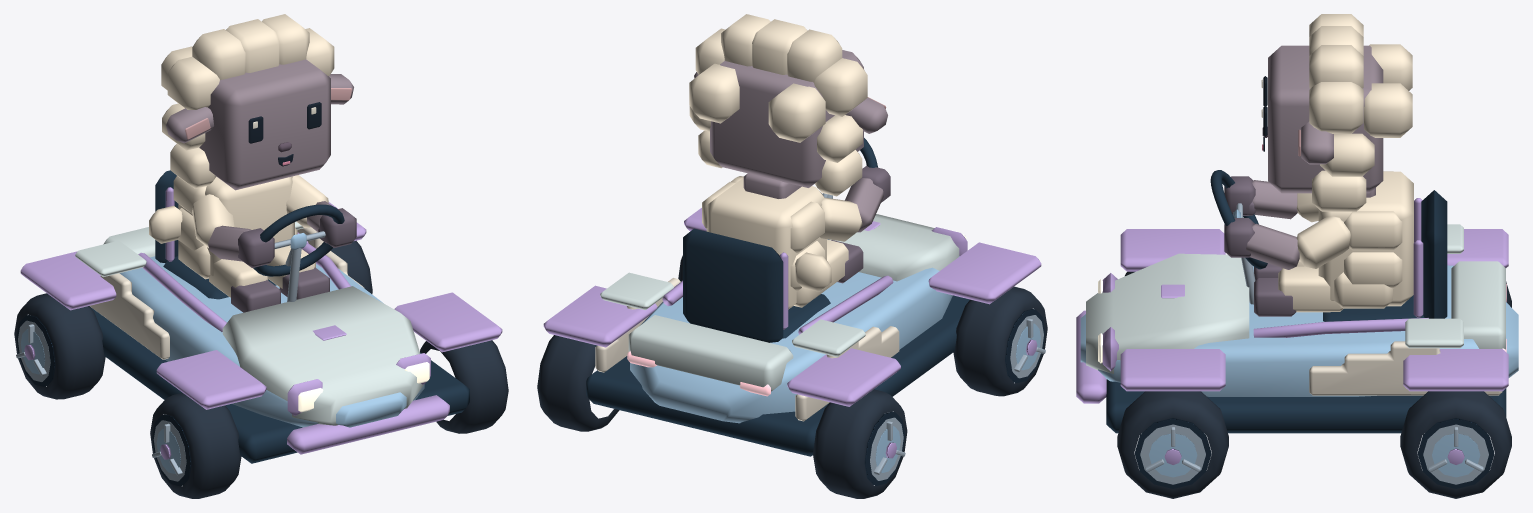
The model's file is kart_domba_low.glb.
3 views of the same model, side by side, from view 1: azimuth 30°, elevation 25°; view 2: azimuth 150°, elevation 25°; view 3: azimuth 270°, elevation 25° (orthographic). The views are drawn at different scales.
Parts seen in each view (by area): view 1: chassis, driver_pose, wheel_fl_spin, wheel_rl_spin, wheel_fr_spin, steering, ear_l, wheel_rr_spin, tail, eyes, ear_r; view 2: chassis, driver_pose, wheel_rl_spin, wheel_fl_spin, wheel_rr_spin, tail, ear_l; view 3: chassis, driver_pose, wheel_fr_spin, wheel_rr_spin, ear_r, steering.
Boxes of the visible parts, x1,y1,x2,y2 form: chassis: [20, 170, 502, 463]; driver_pose: [161, 14, 356, 312]; wheel_fl_spin: [150, 392, 241, 498]; wheel_rl_spin: [14, 293, 105, 399]; wheel_fr_spin: [420, 340, 508, 433]; steering: [253, 204, 344, 276]; ear_l: [166, 107, 213, 143]; wheel_rr_spin: [330, 240, 372, 293]; tail: [149, 205, 182, 243]; eyes: [248, 102, 321, 143]; ear_r: [329, 74, 353, 104]; chassis: [543, 194, 1041, 456]; driver_pose: [689, 14, 890, 309]; wheel_rl_spin: [813, 389, 907, 498]; wheel_fl_spin: [953, 286, 1047, 396]; wheel_rr_spin: [537, 335, 619, 431]; tail: [795, 252, 831, 291]; ear_l: [845, 97, 887, 133]; chassis: [1076, 190, 1518, 433]; driver_pose: [1224, 14, 1413, 316]; wheel_fr_spin: [1117, 391, 1228, 498]; wheel_rr_spin: [1400, 391, 1511, 498]; ear_r: [1298, 121, 1333, 164]; steering: [1210, 170, 1267, 269].
Size of what is drawn, in the model's own units: 1.46 by 1.59 by 1.63.
